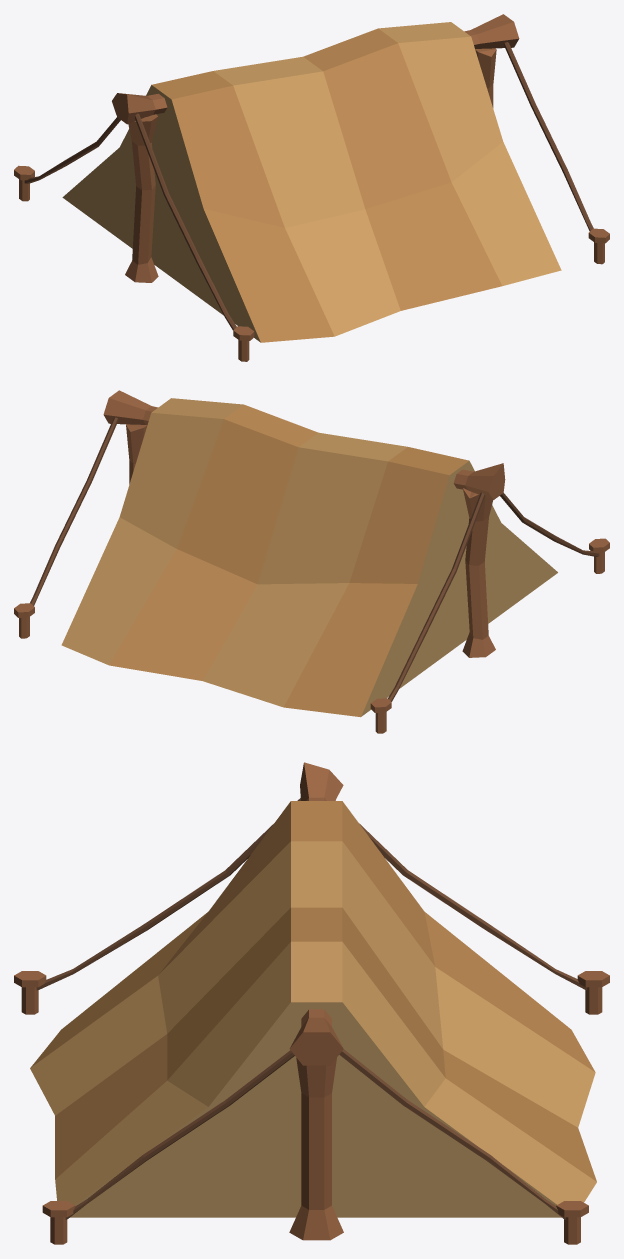
File: Model_Desert_2x2B.fbx
3 renders of one model, top to bottom at view 1: azimuth 30°, elevation 25°; view 2: azimuth 150°, elevation 25°; view 3: azimuth 270°, elevation 25°, orthographic. The views are drawn at different scales.
Visible parts, largest first — view 1: Model_Frost_2x2B; view 2: Model_Frost_2x2B; view 3: Model_Frost_2x2B.
Part boxes in pixels (x1=…): Model_Frost_2x2B: x1=14, y1=14, x2=609, y2=361; Model_Frost_2x2B: x1=14, y1=390, x2=609, y2=733; Model_Frost_2x2B: x1=14, y1=762, x2=609, y2=1244.
Bounding box in the file's own units: 386 × 181 × 400.
1 material, 1 textured.
